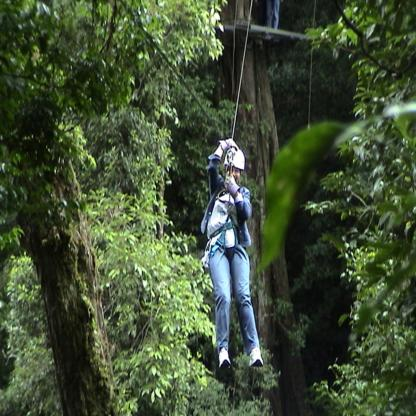Helmet: (212, 142, 245, 183)
